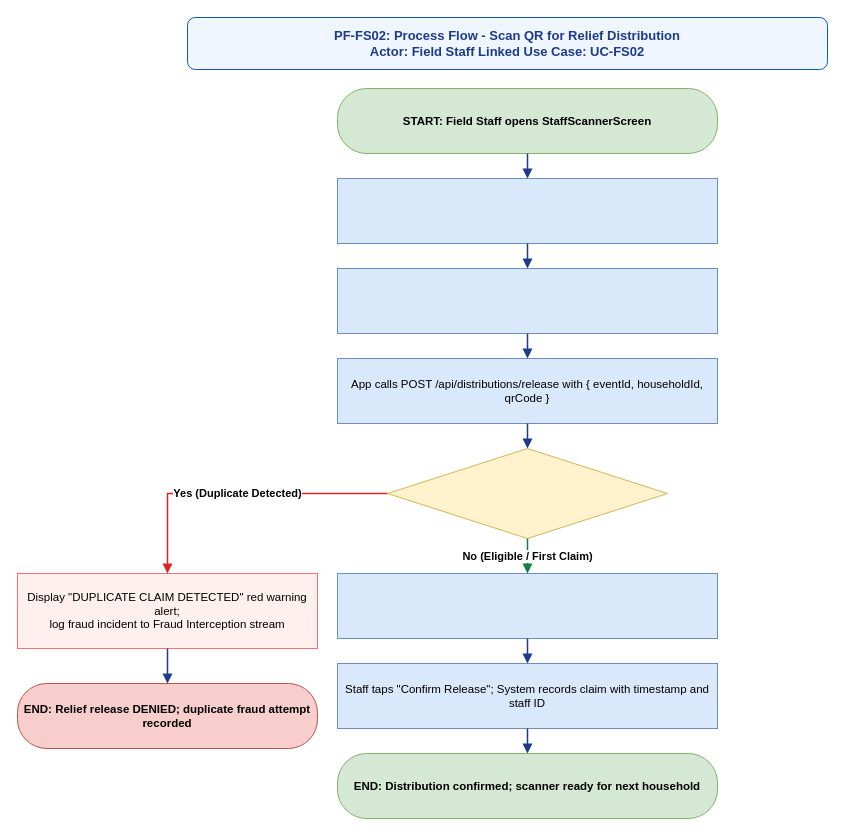
Image size: 845x836. Some labels were removed from this diagram. The box of each missing label's shape, as (x1, y1, x2, y2) in pixels:
Already claimed in event? (Compound index check): (386, 448, 668, 538)
Display "VERIFIED BENEFICIARY"; Staff hands over physical relief package: (336, 572, 718, 638)
Scans resident digital QR Relief Pass using camera scanner: (336, 268, 718, 334)
Selects active distribution event from GET /api/distributions/events: (336, 178, 718, 244)
